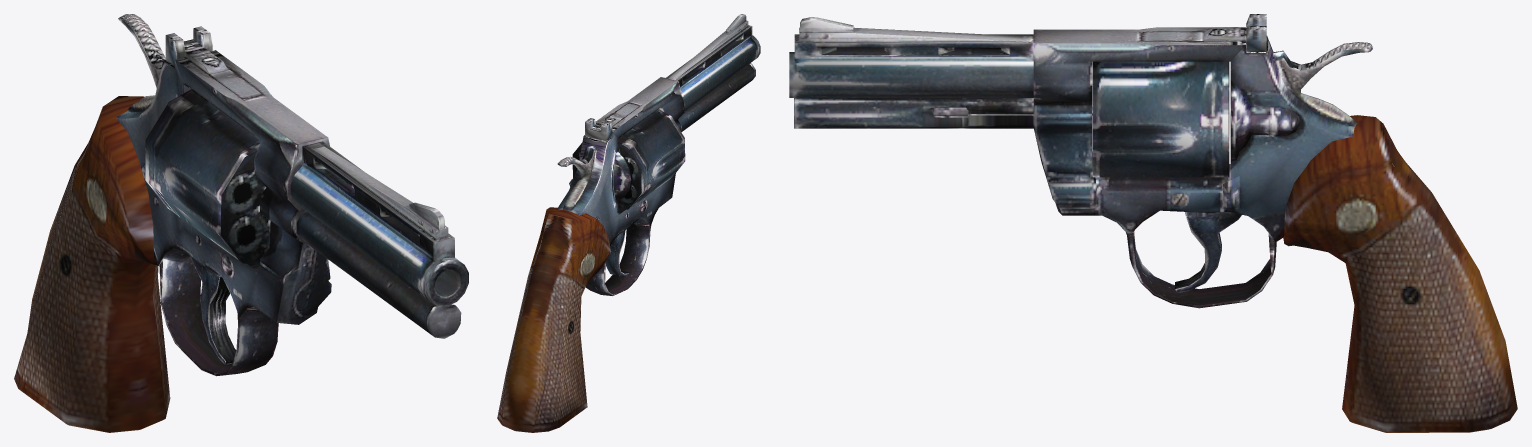
The model's file is Revolver.obj.
3 views of the same model, side by side, from view 1: azimuth 30°, elevation 25°; view 2: azimuth 150°, elevation 25°; view 3: azimuth 270°, elevation 25° (orthographic). The views are drawn at different scales.
Size of the model in its own units: 0.0796 by 0.278 by 0.4668.
1 material, 1 textured.
